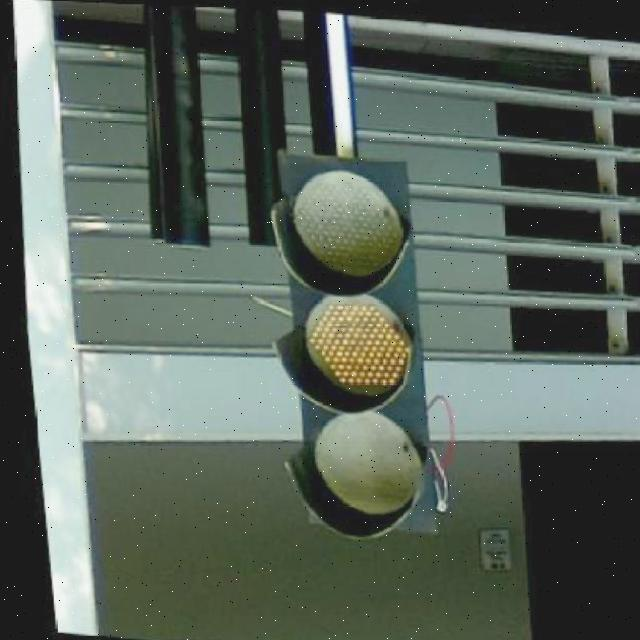Lampu Kuning: (253, 146, 447, 534)
